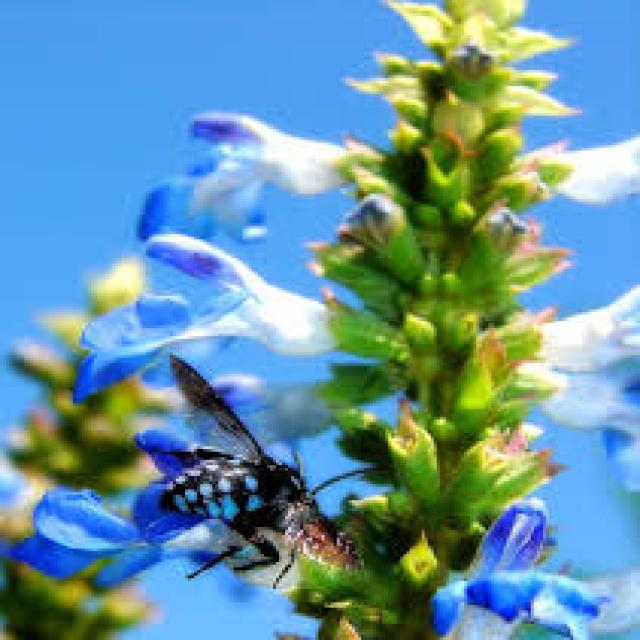Thyreus: (152, 347, 330, 595)
